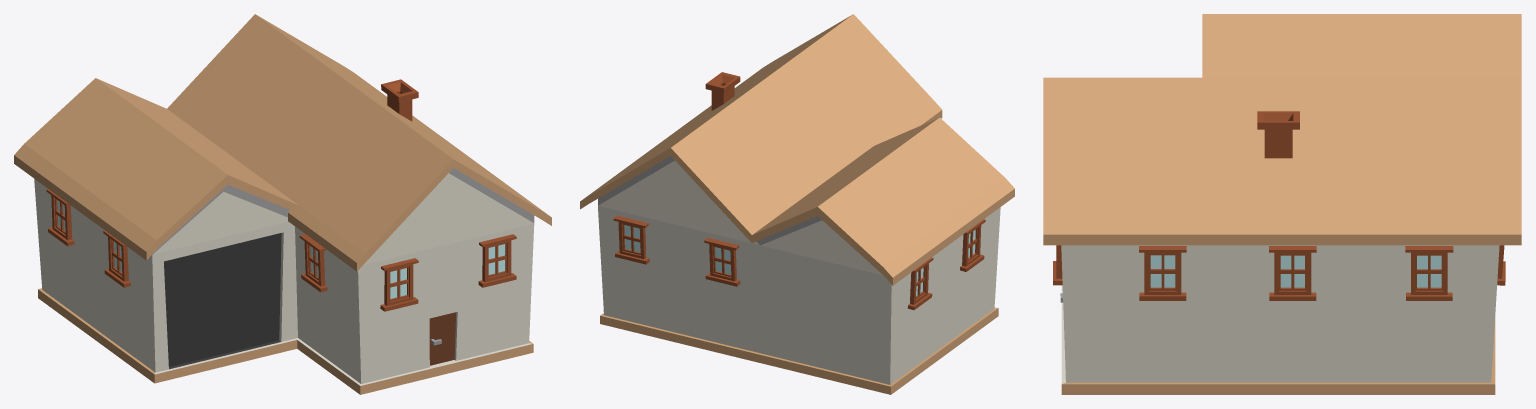
File: House5.glb
The picture shows the model from 3 angles, left to right: view 1: azimuth 30°, elevation 25°; view 2: azimuth 150°, elevation 25°; view 3: azimuth 270°, elevation 25°; orthographic projection. The views are drawn at different scales.
Parts seen in each view (by area): view 1: Cube.000; view 2: Cube.000; view 3: Cube.000.
Boxes of the visible parts, x1,y1,x2,y2 form: Cube.000: (14, 14, 551, 394); Cube.000: (580, 14, 1014, 394); Cube.000: (1043, 14, 1521, 394).
Size of the model in its own units: 21.64 by 13.43 by 21.9.
Materials: 1 (1 with a texture image).
